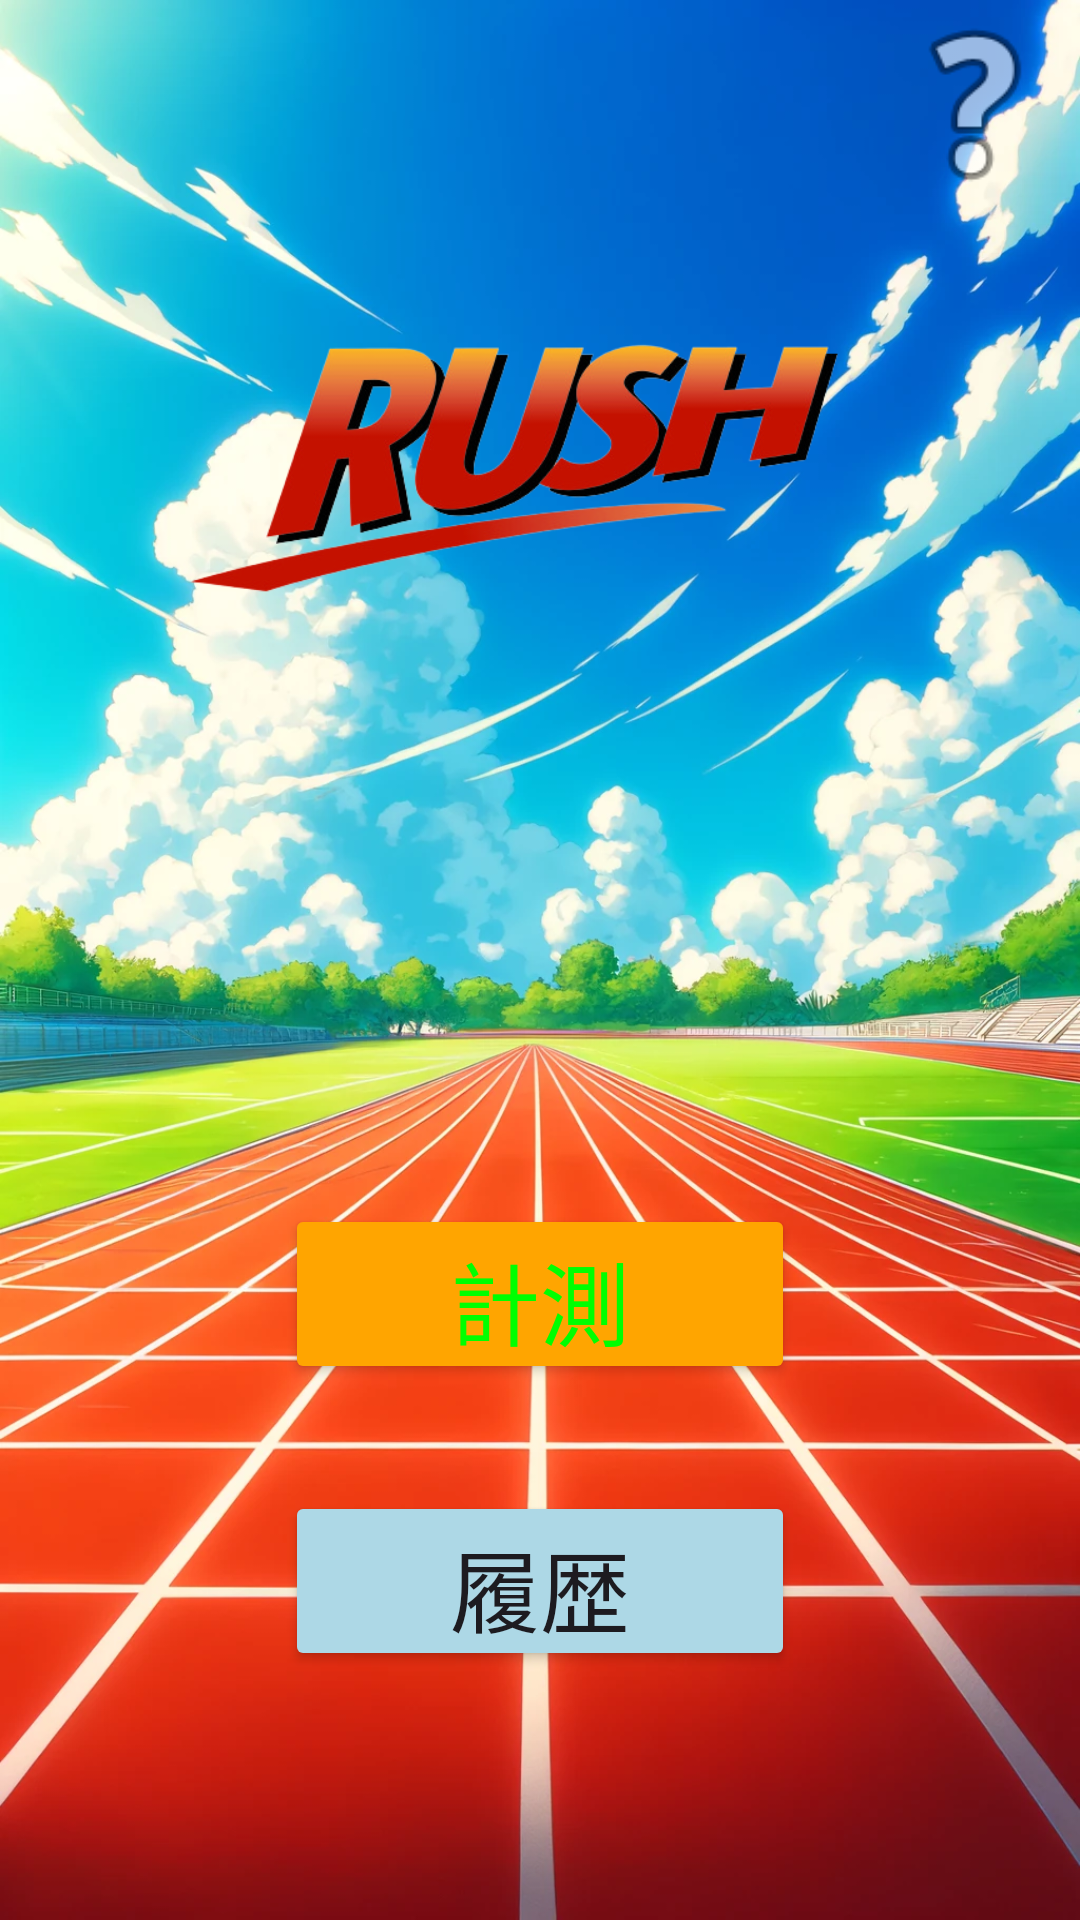

Where to tap for icons on this 1080px×1920px app screen, as [x,y]:
help: [1004,105]
